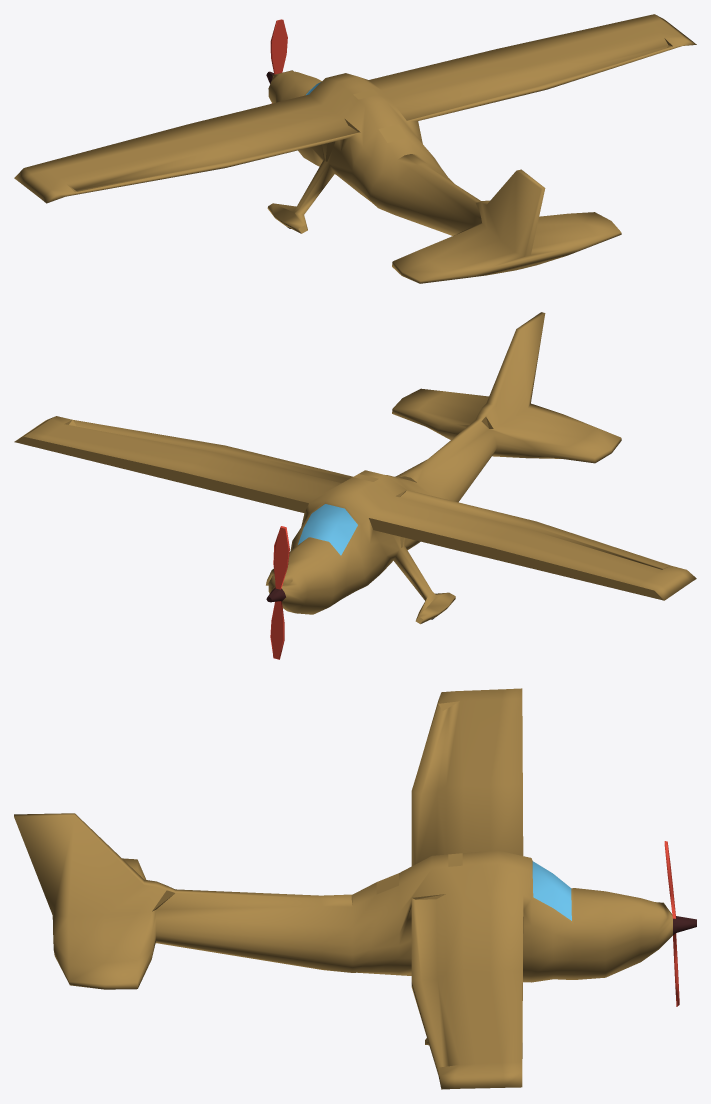
Rendered from studio_plane.glb.
3 views of the same model, one above another, from view 1: azimuth 30°, elevation 25°; view 2: azimuth 150°, elevation 25°; view 3: azimuth 270°, elevation 25° (orthographic). The views are drawn at different scales.
Parts seen in each view (by area): view 1: polySurface; view 2: polySurface; view 3: polySurface.
Part boxes in pixels (x1,y1,x2,y2): polySurface: (14,14,696,283); polySurface: (14,312,696,659); polySurface: (14,688,696,1089).
Bounding box in the file's own units: 12.77 × 2.93 × 9.32.
